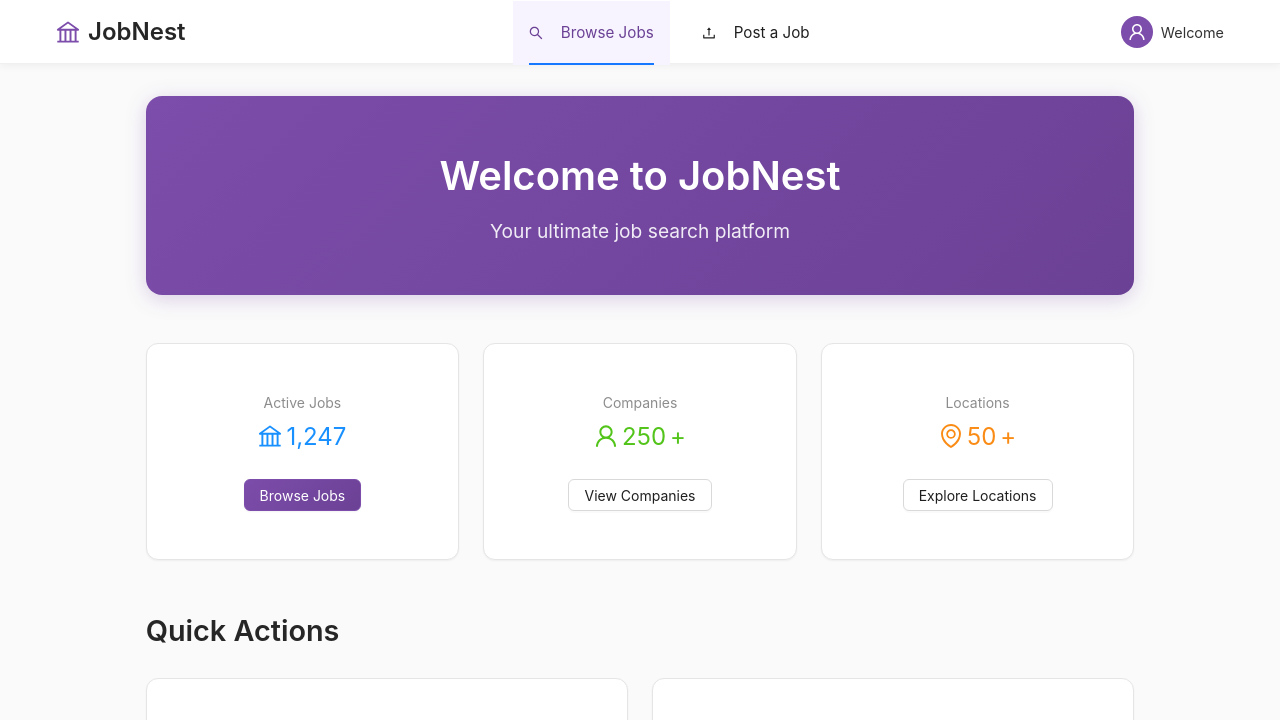
Test case: Auth Routes Test › Navigate to Profile when authenticated
The image size is (1280, 720).
expect the heading "Welcome to JobNest" is shown: met, box x1=440 y1=151 x2=841 y2=200
Hover over the icon with test id "user-icon" at (1137, 32), box x1=1121 y1=16 x2=1153 y2=48
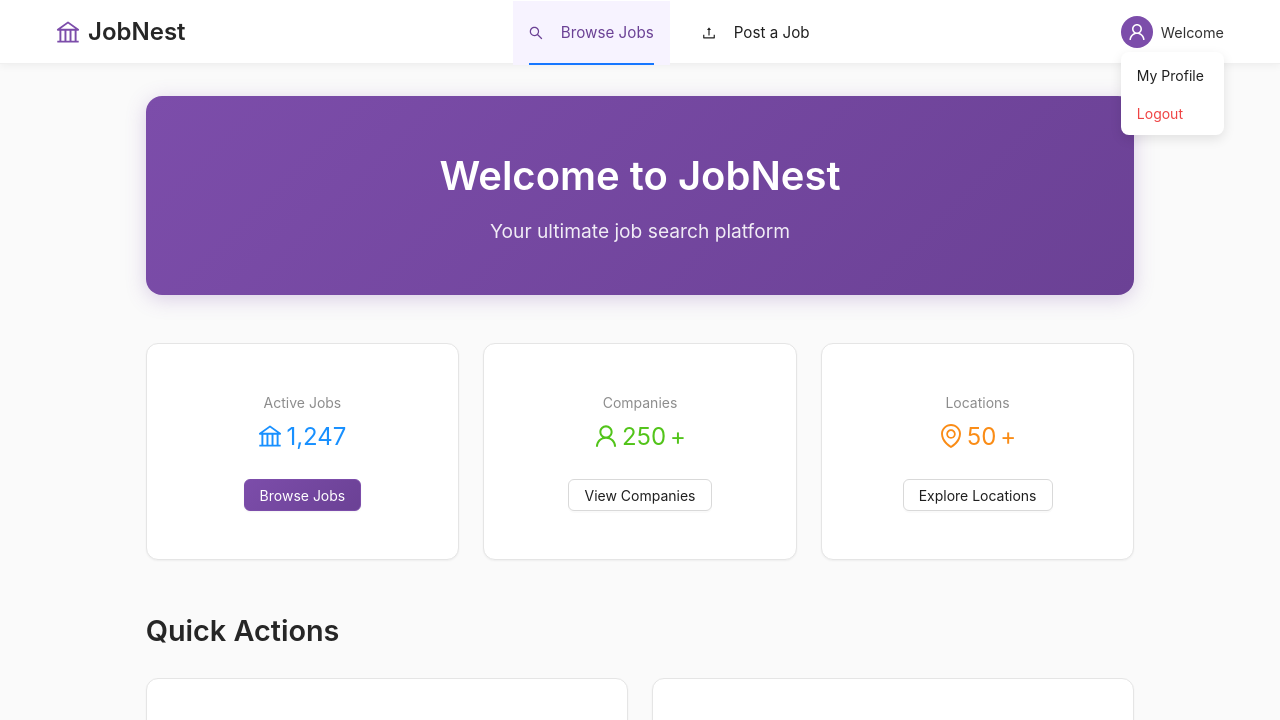
expect the link "My Profile" is shown: met
Find and click the profile menu item
Click the link "My Profile" at (1170, 76), box x1=1137 y1=67 x2=1204 y2=84
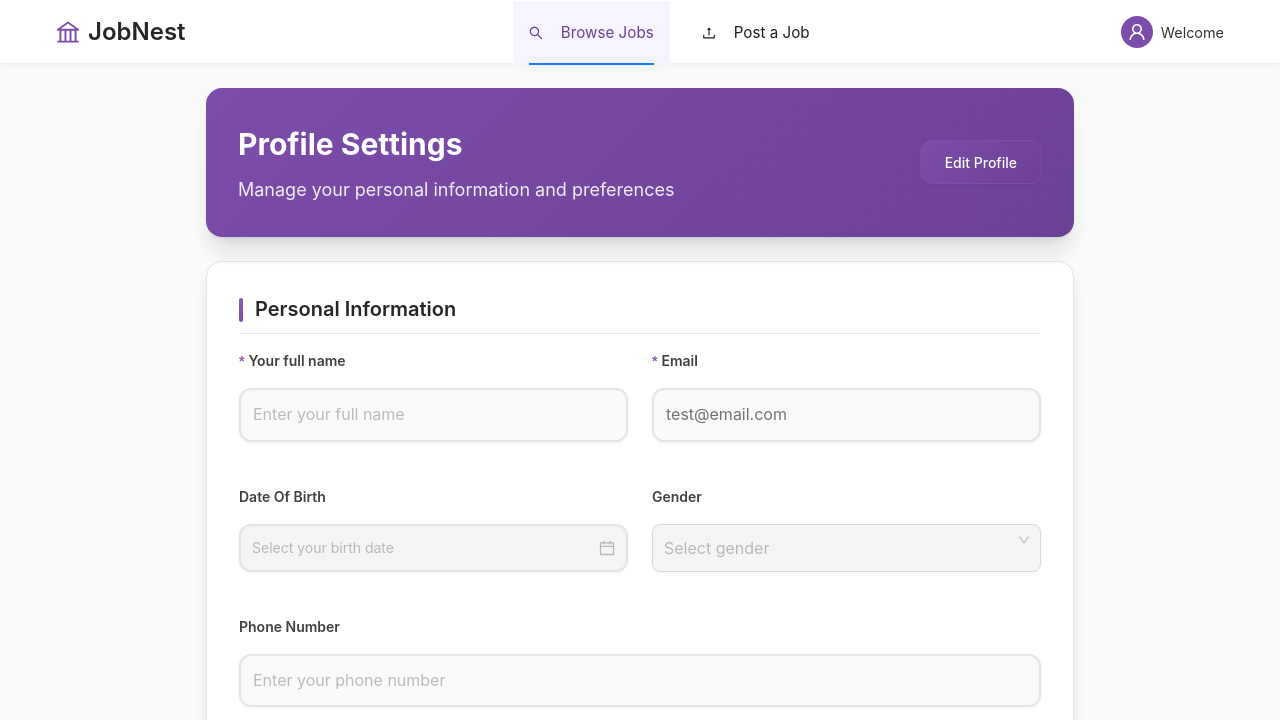
expect the heading "Profile Settings" is shown: met, box x1=238 y1=126 x2=462 y2=162
